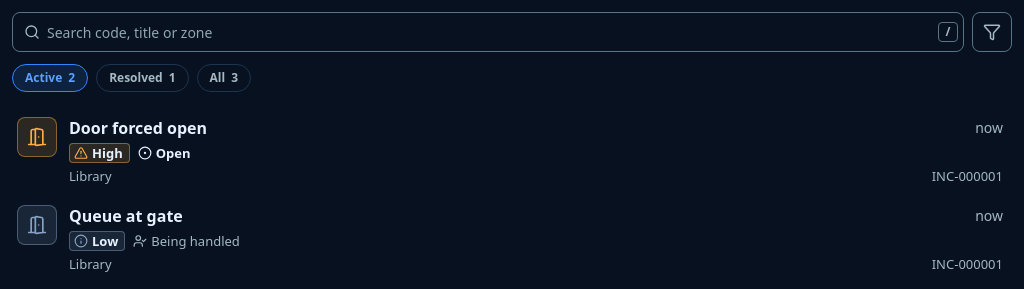
Test: IncidentFeed › search › says when nothing matches, and clears back to the list
Type "zzz" into the search field named "Search incidents". click: (488, 32)
box: [12,12,964,52]
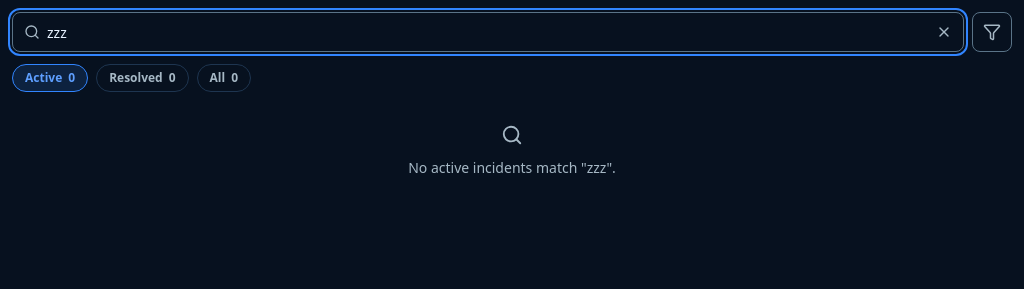
Check: the text "No active incidents match \"zzz\"." is shown, box [408,158,616,178]
Click the button named "Clear search". click: (944, 32)
box: [930,18,958,46]
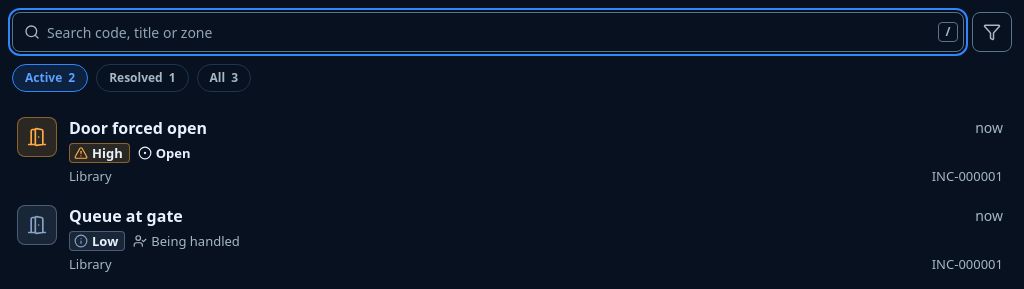
Check: the text "Door forced open" is shown, box [69,117,207,139]
Check: the text "Queue at gate" is shown, box [69,205,183,227]
Check: the search field named "Search incidents" is empty, box [12,12,964,52]
